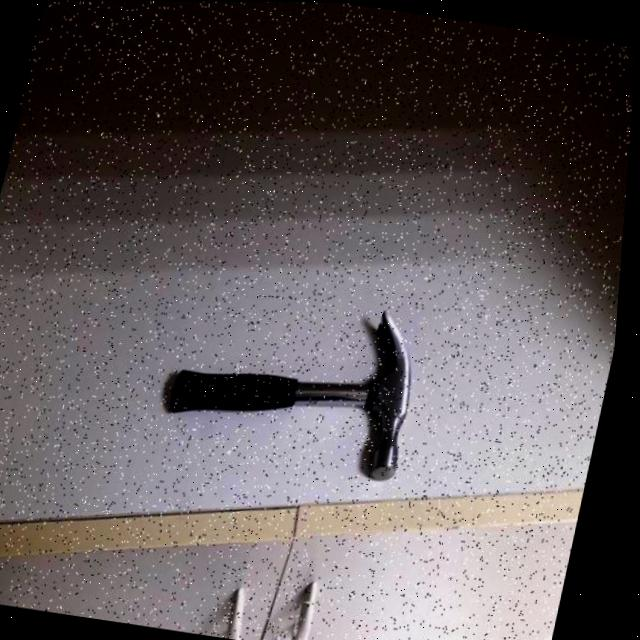hammer: (163, 283, 435, 485)
